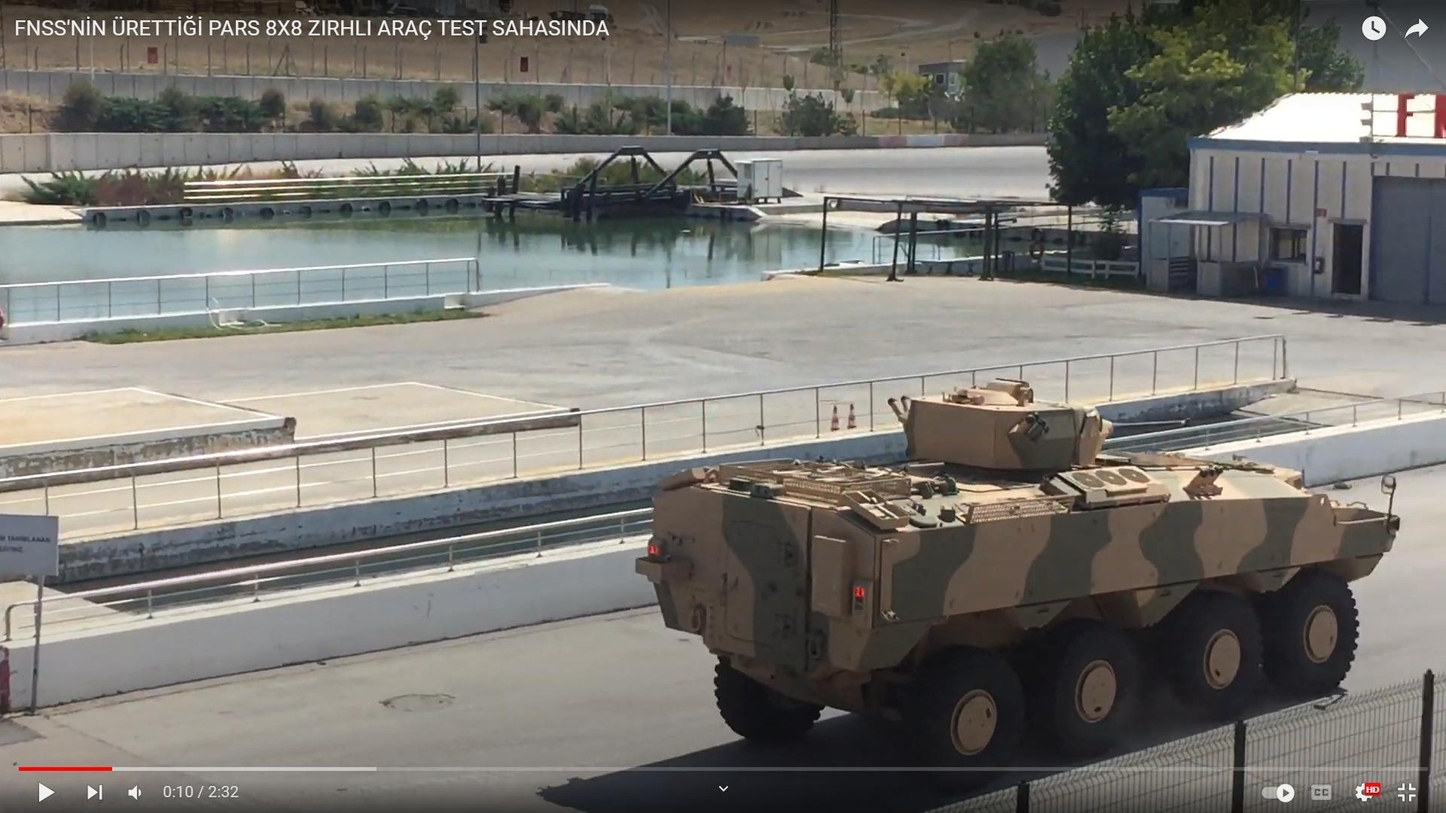armored_car: (628, 359, 1413, 766)
